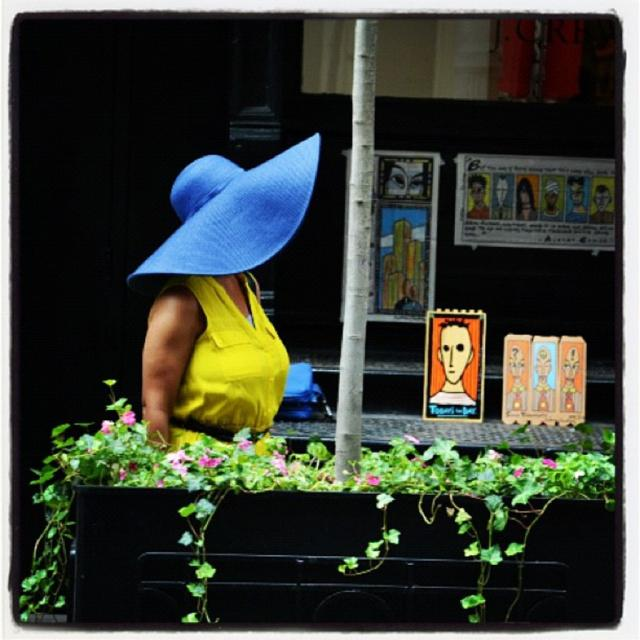Hat: (124, 130, 321, 290)
